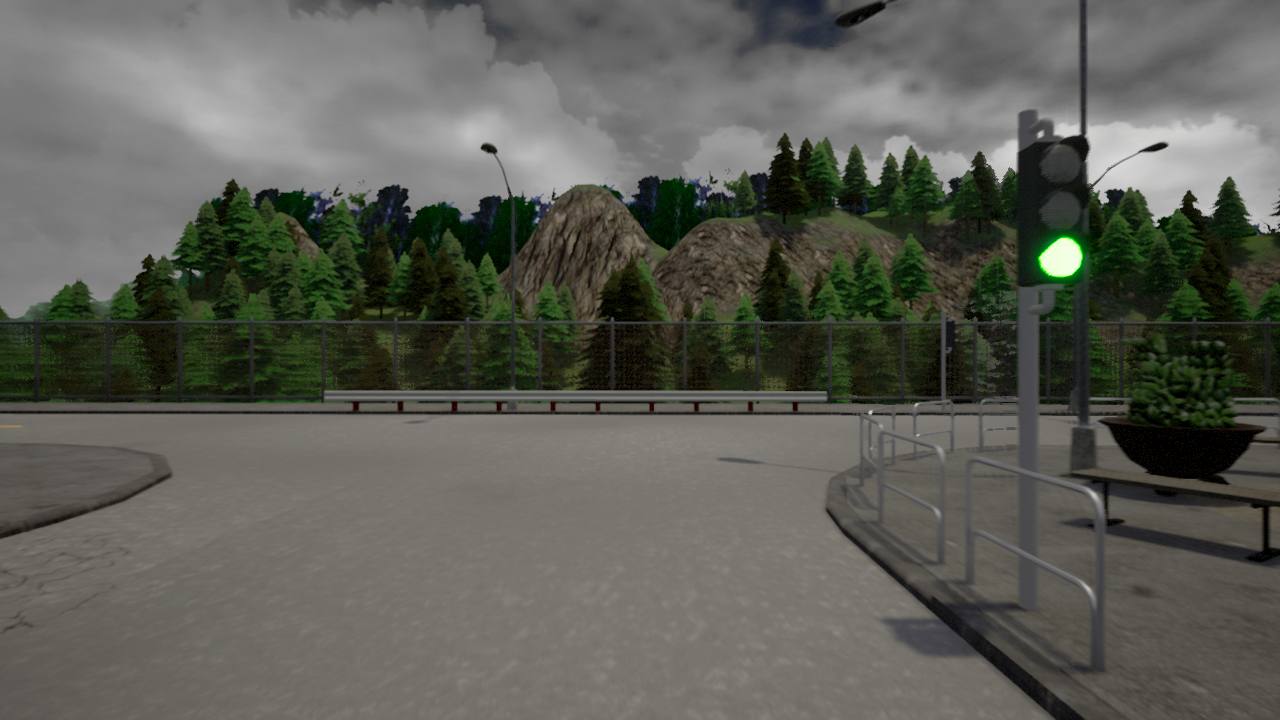green: (1012, 139, 1091, 290)
